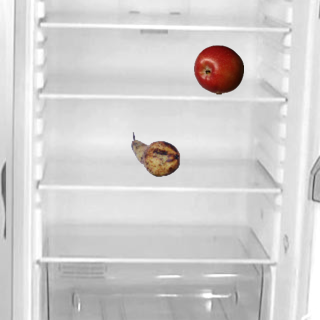Apple Braeburn: (193, 44, 243, 94)
Pear Abate: (130, 129, 180, 179)
